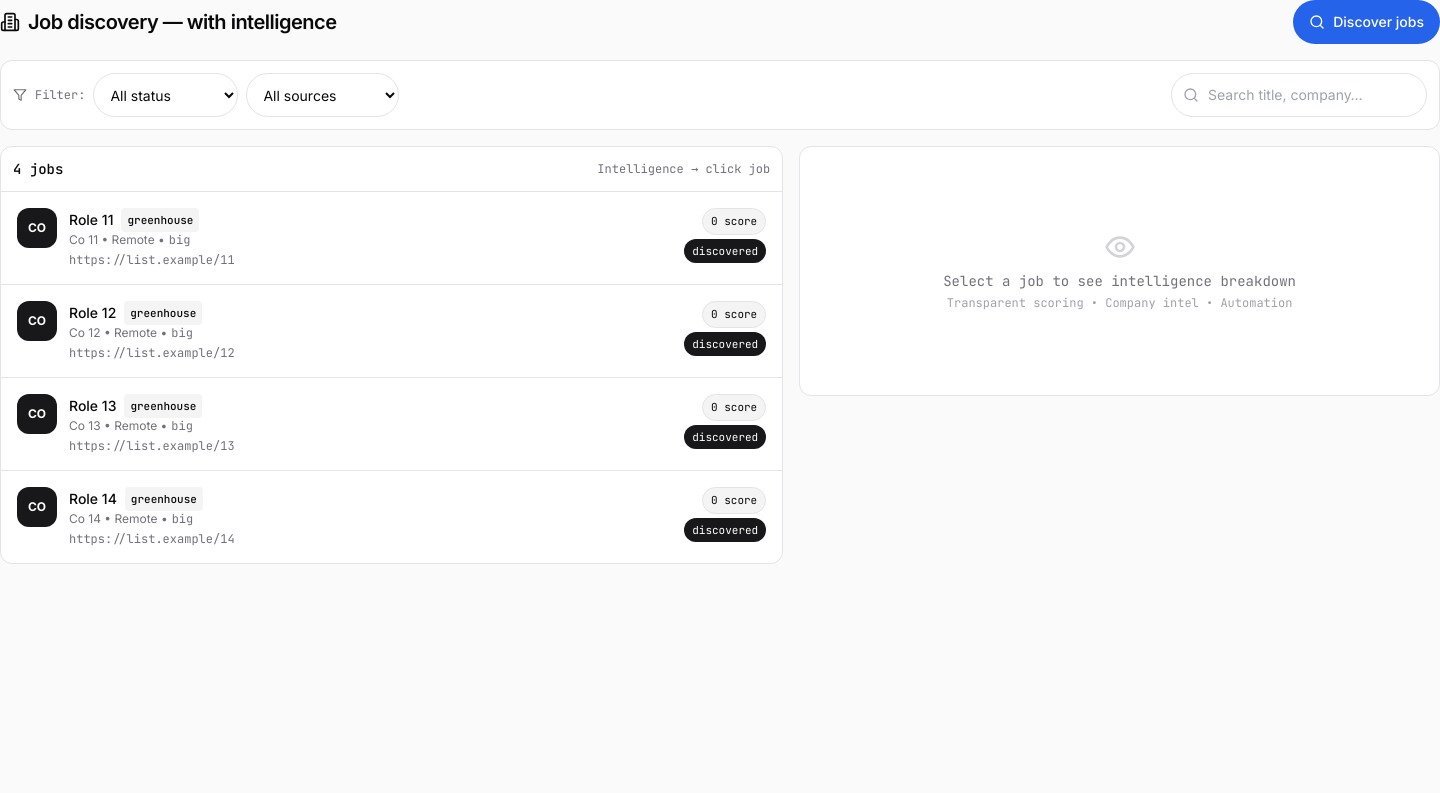
Test: job selection under rapid clicking › a late answer for an earlier click cannot take the panel back
Click the text "https://list.example/11" at (152, 260), box [69, 252, 235, 268]
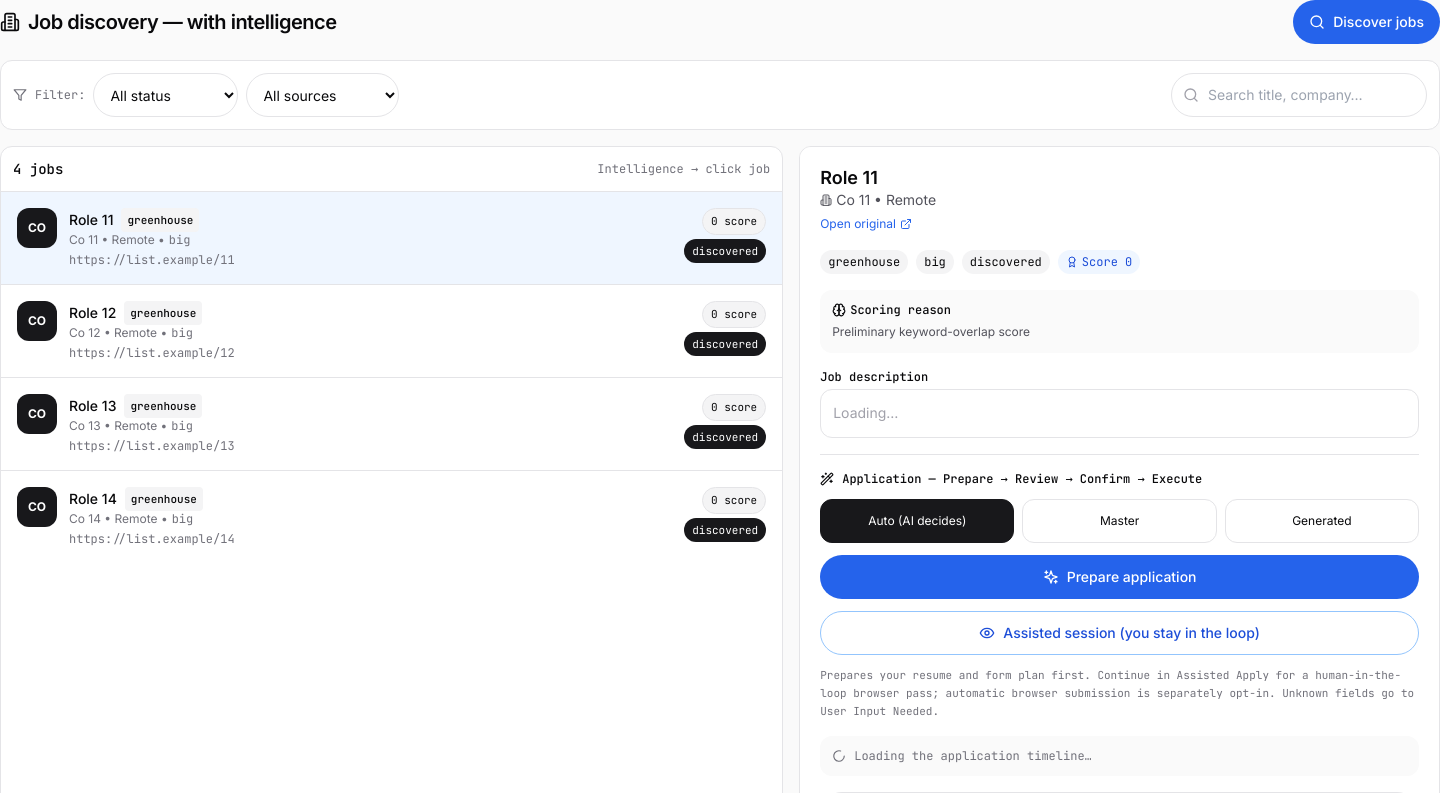
Click the text "https://list.example/12" at (152, 353), box [69, 345, 235, 361]
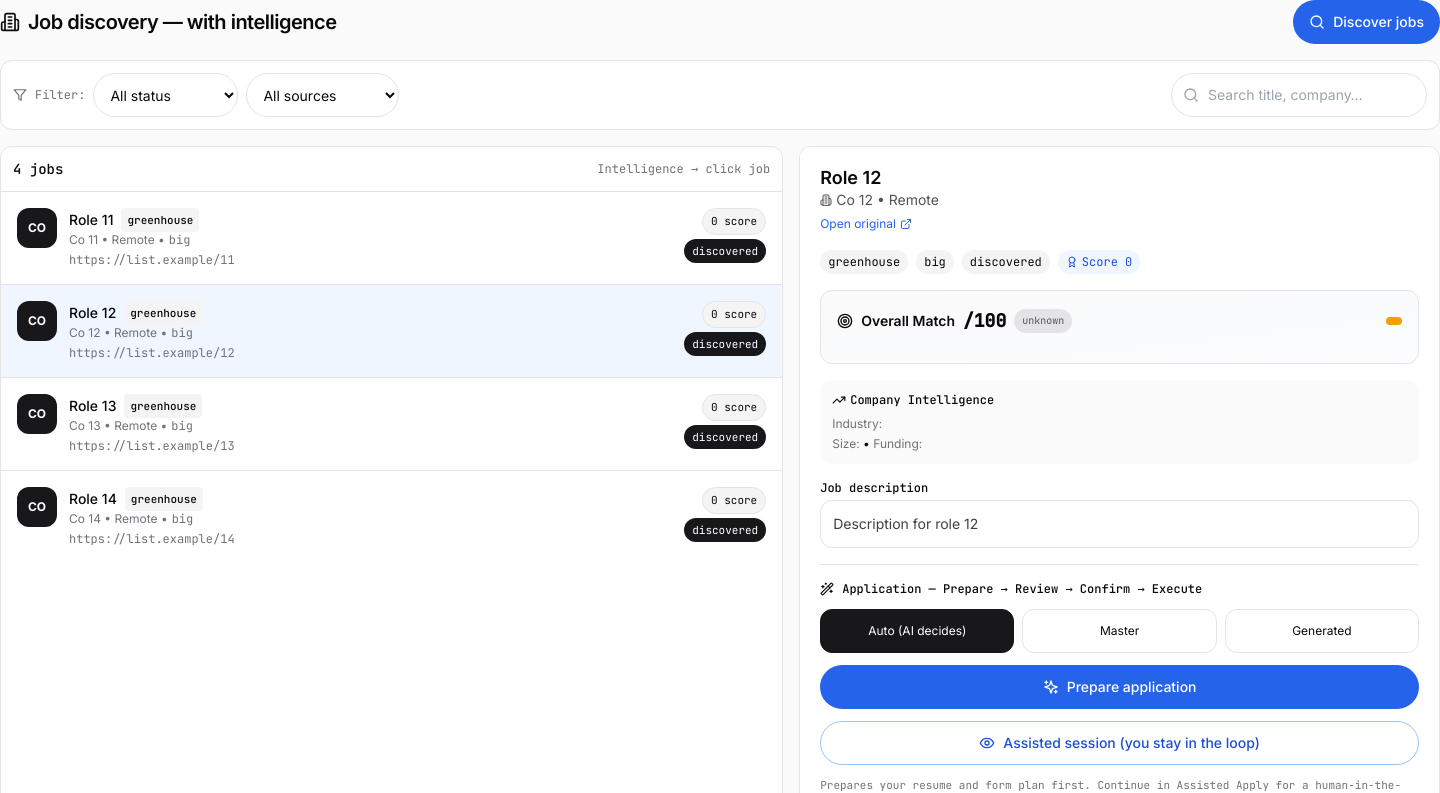
expect the text "Description for role 12" is shown: met, box [820, 500, 1419, 548]
